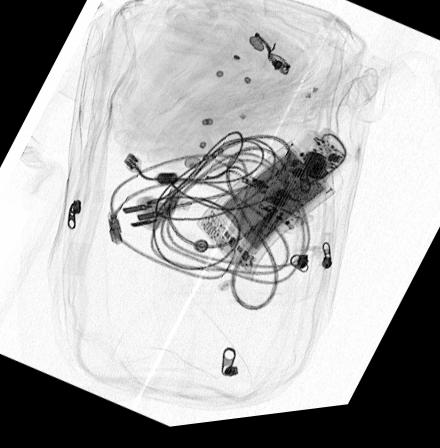Powerbank: (197, 145, 336, 282)
